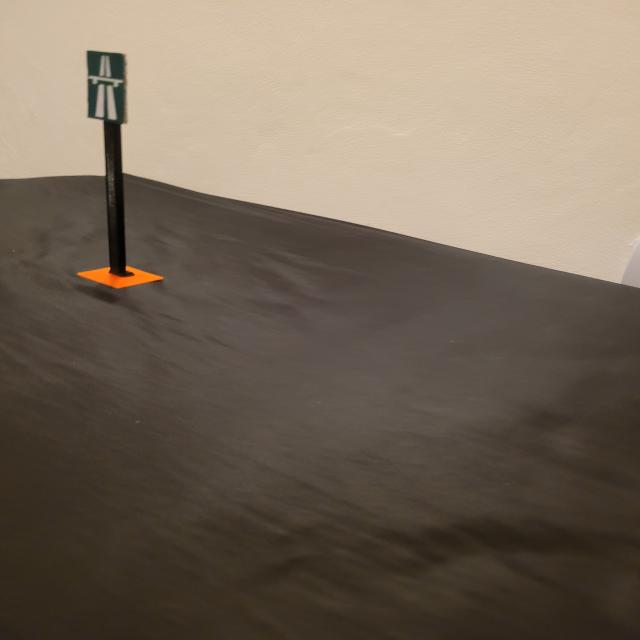highway_entrance: (86, 50, 129, 123)
